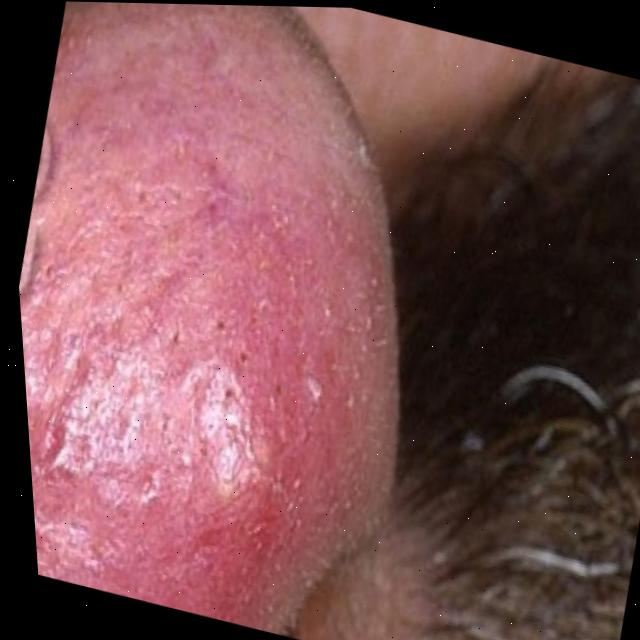Rosacea: (10, 149, 403, 623)
